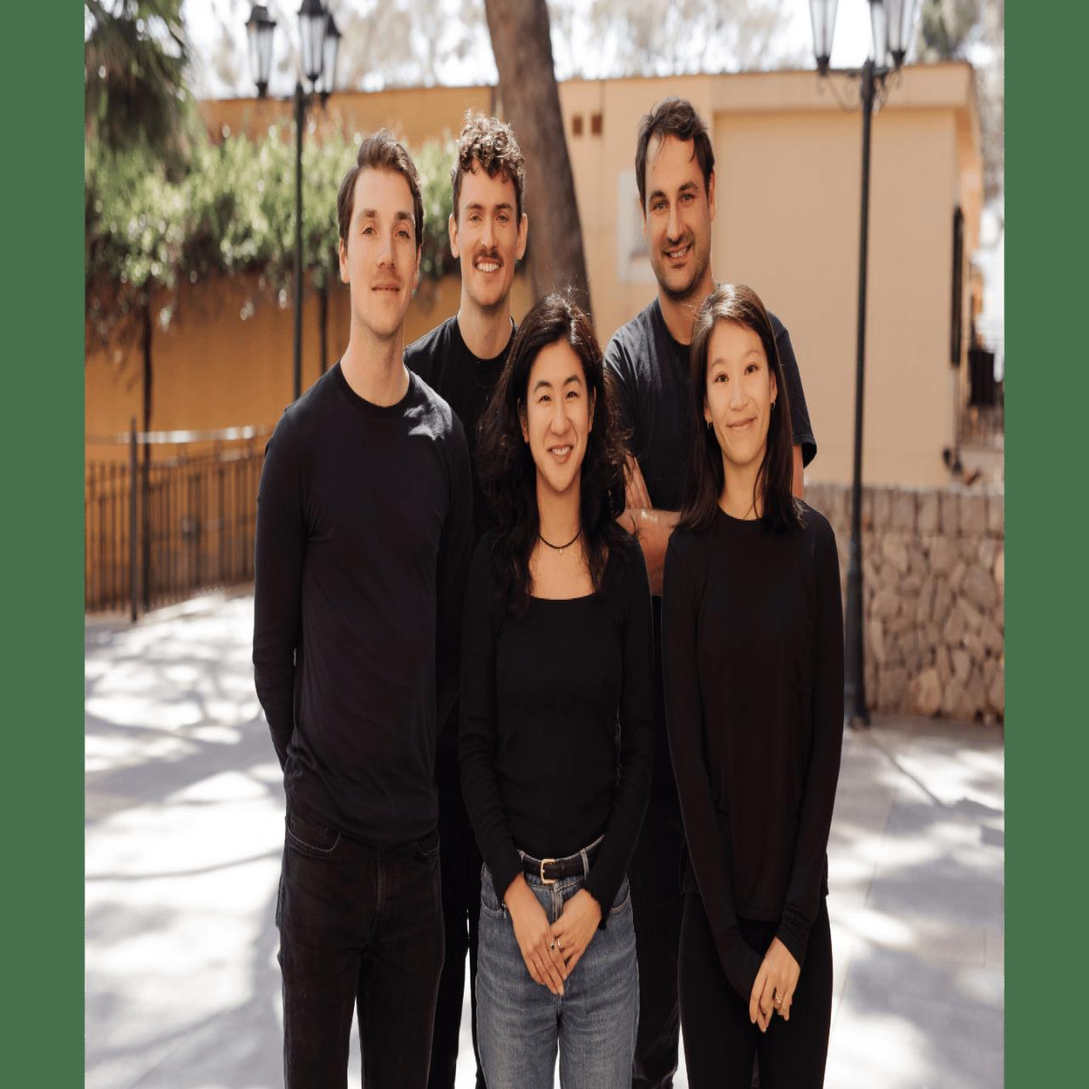NO_Safety_Vest: (287, 396, 459, 847), (674, 515, 833, 933), (480, 505, 625, 881), (609, 293, 722, 522), (424, 319, 526, 492)
Person: (252, 121, 478, 1089), (645, 282, 850, 1089), (481, 274, 649, 1089), (598, 90, 734, 564), (418, 121, 568, 440)
